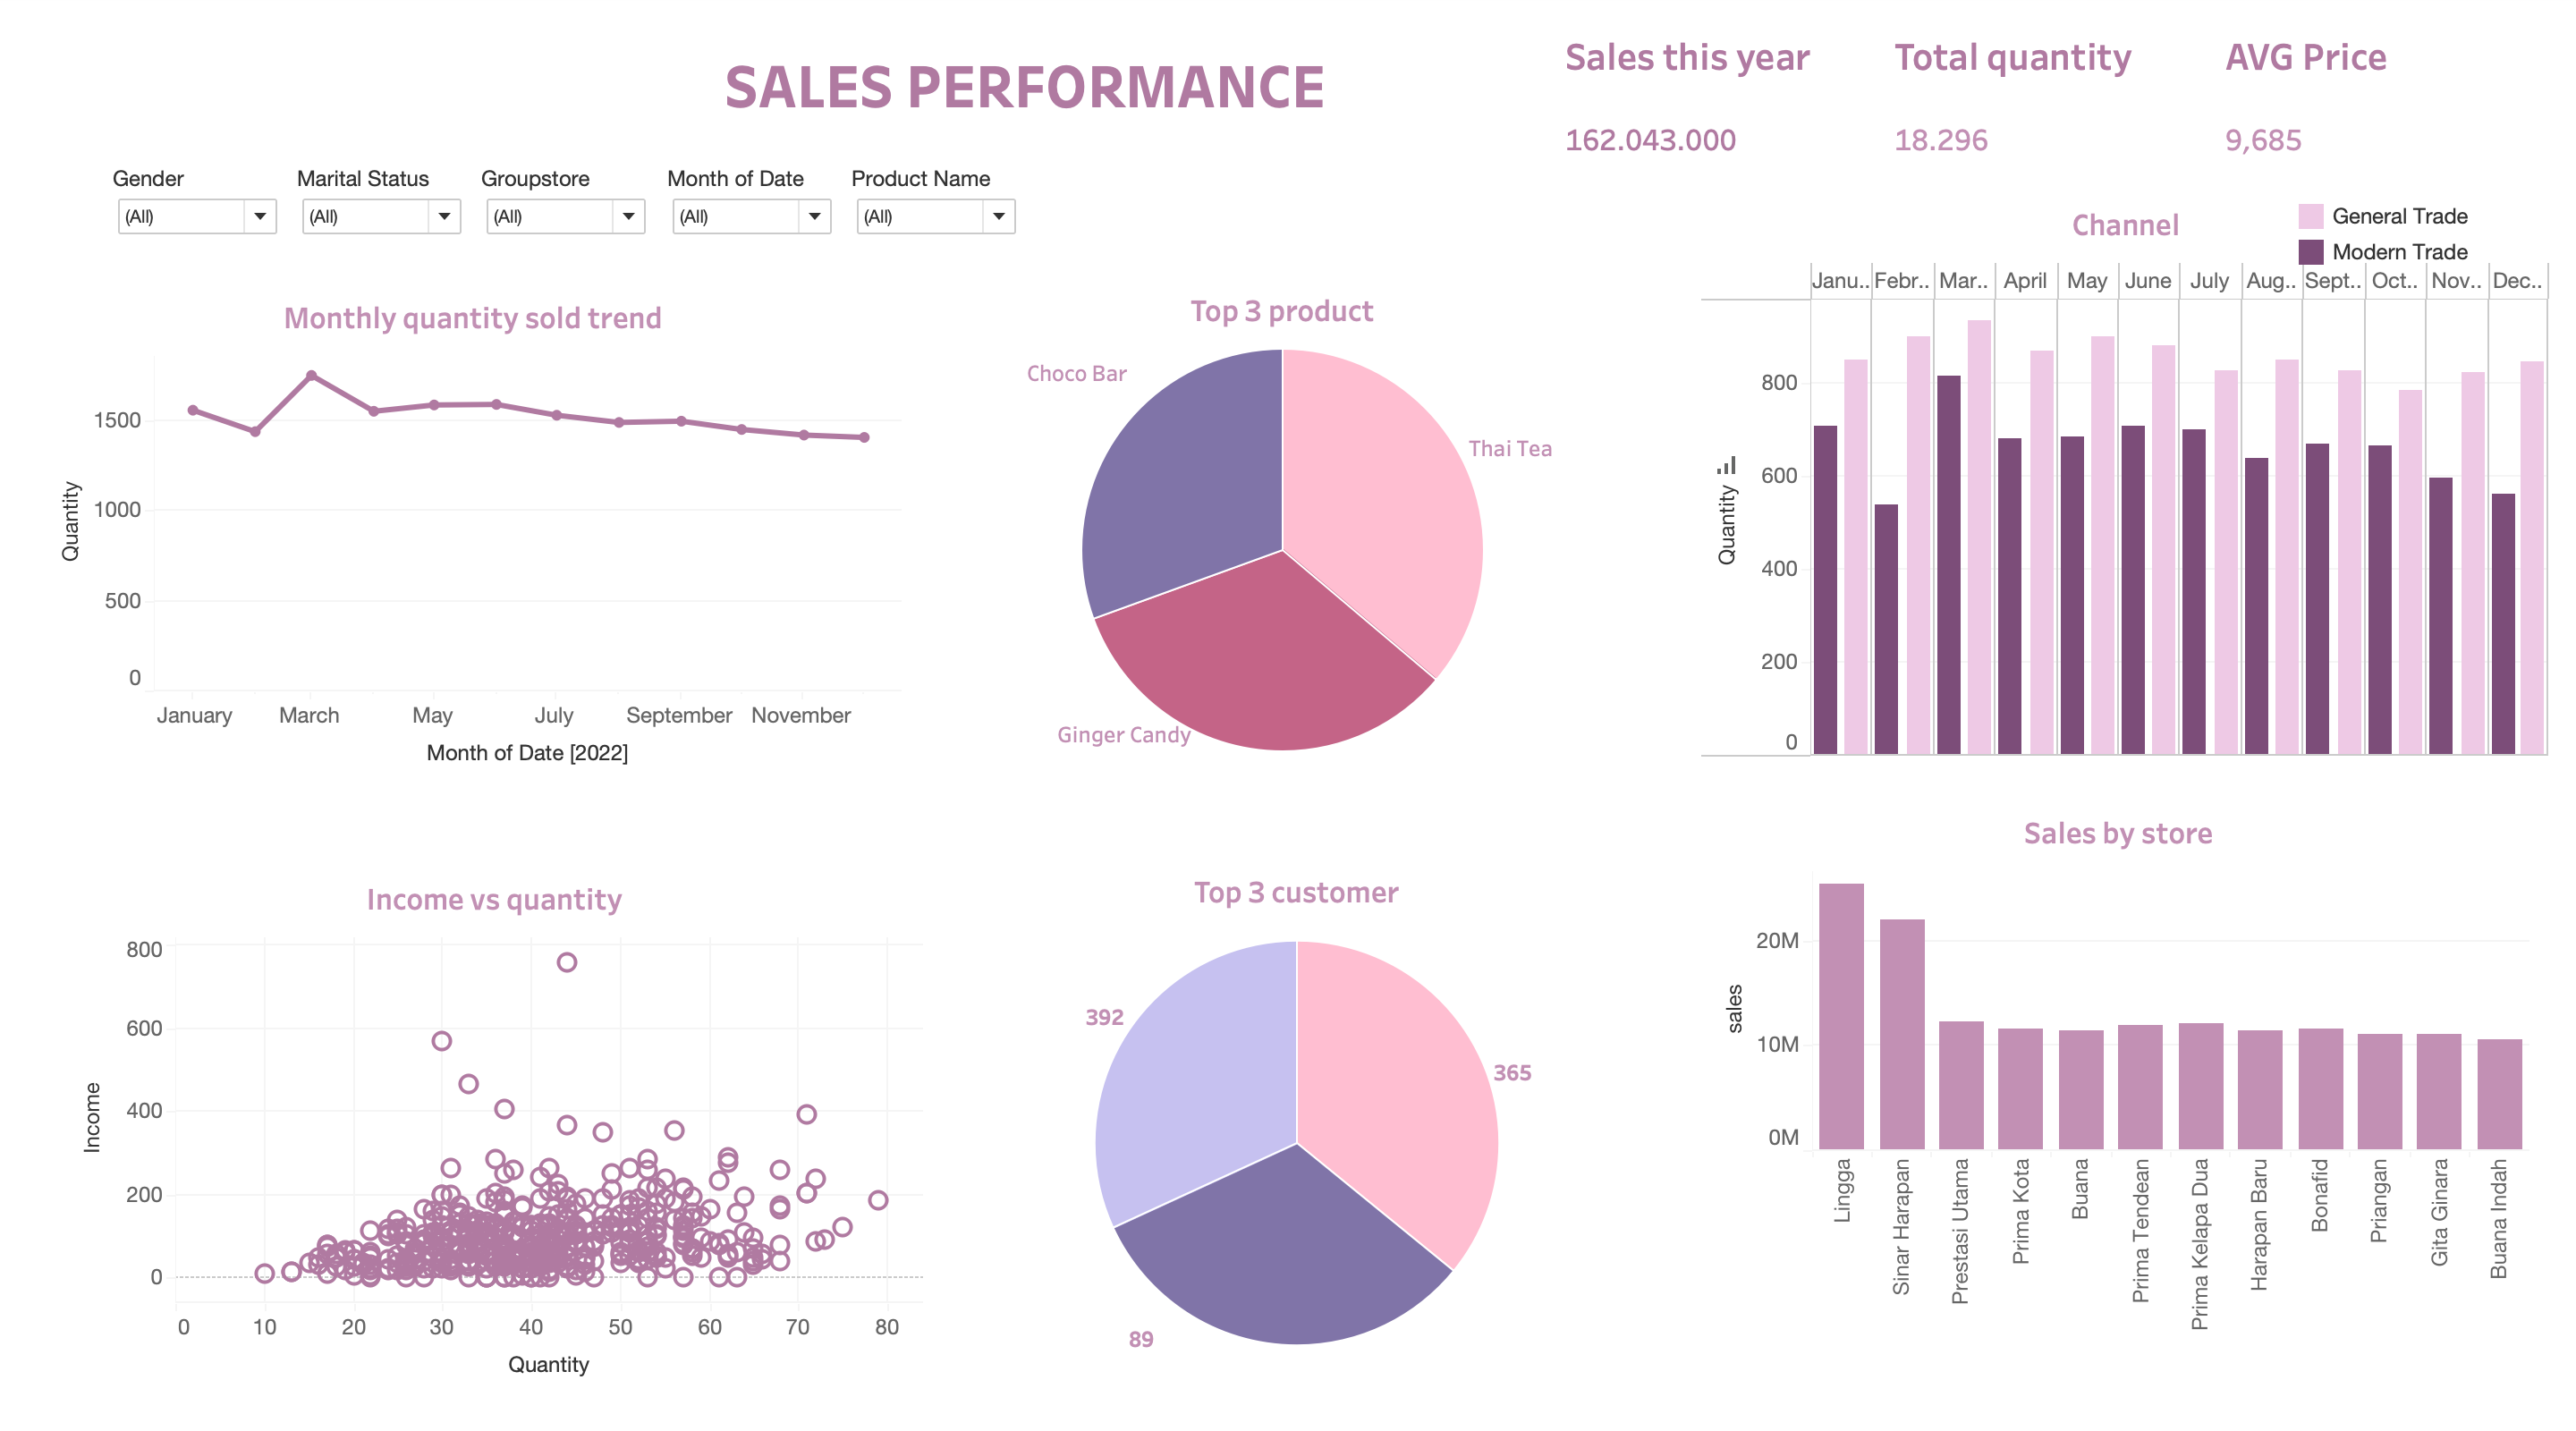

The page's visual inventory and layout, read from the dashboard file:
{"tool":"tableau","page":{"name":"Sales performance","canvas":[1000,1000],"units":"permille","ordinal":1},"visuals":[{"type":"text","box":[152.2,14.3,492.3,95.2]},{"type":"worksheet","title":"Sales this year","mark":"Automatic","box":[602.1,14.3,128,119]},{"type":"worksheet","title":"Quantity sold","mark":"Automatic","box":[730.1,14.3,128,119]},{"type":"worksheet","title":"AVG Price","mark":"Automatic","box":[858.1,14.3,128,119]},{"type":"filter","title":"Monthly sales trend","param":"[federated.1lrnjxu1mu8r5l1h5now815nalnp].[none:gender:ok]","box":[40.7,114.3,71.8,76.2]},{"type":"filter","title":"Monthly sales trend","param":"[federated.1lrnjxu1mu8r5l1h5now815nalnp].[none:marital_status:nk]","box":[112.4,114.3,71.8,76.2]},{"type":"filter","title":"Monthly sales trend","param":"[federated.1lrnjxu1mu8r5l1h5now815nalnp].[none:groupstore:nk]","box":[184.2,114.3,71.8,76.2]},{"type":"filter","title":"Monthly sales trend","param":"[federated.1lrnjxu1mu8r5l1h5now815nalnp].[mn:date:ok]","box":[256,114.3,71.8,76.2]},{"type":"filter","title":"Monthly sales trend","param":"[federated.1lrnjxu1mu8r5l1h5now815nalnp].[none:product_name:nk]","box":[327.7,114.3,71.8,76.2]},{"type":"worksheet","title":"Channel","mark":"Bar","rows":["quantity"],"cols":["date","type"],"box":[660.7,139.7,329.5,388.9]},{"type":"legend","title":"Channel","param":"[federated.1lrnjxu1mu8r5l1h5now815nalnp].[none:type:nk]","box":[890.1,141.1,104.2,82.4]},{"type":"worksheet","title":"Top 3 product","mark":"Pie","box":[391.4,200,212.4,325.4]},{"type":"worksheet","title":"Monthly sales trend","mark":"Automatic","rows":["quantity"],"cols":["date"],"box":[17.1,204.8,332.8,338.1]},{"type":"worksheet","title":"Sales by store","mark":"Automatic","rows":["Calculation_484066627494842368"],"cols":["store_name"],"box":[663.1,561.9,319,388.9]},{"type":"worksheet","title":"Top 3 customer","mark":"Pie","box":[384.9,603.2,237.6,341.3]},{"type":"worksheet","title":"income vs quantity","mark":"Automatic","rows":["income"],"cols":["quantity"],"box":[26,607.9,332.8,360.3]}]}

Visuals, with their boxes on the dashboard's canvas, which has no fixed pixel size, in thousandths of its width and height (x1, y1, x2, y2). These are canvas units, not pixel positions in the 2576x1431 screenshot, which may show the page scaled, cropped or inside an application window:
text: (152,14,644,110)
"Sales this year" worksheet: (602,14,730,133)
"Quantity sold" worksheet: (730,14,858,133)
"AVG Price" worksheet: (858,14,986,133)
"Monthly sales trend" filter: (41,114,112,190)
"Monthly sales trend" filter: (112,114,184,190)
"Monthly sales trend" filter: (184,114,256,190)
"Monthly sales trend" filter: (256,114,328,190)
"Monthly sales trend" filter: (328,114,400,190)
"Channel" worksheet (Bar marks): (661,140,990,529)
"Channel" legend: (890,141,994,224)
"Top 3 product" worksheet (Pie marks): (391,200,604,525)
"Monthly sales trend" worksheet: (17,205,350,543)
"Sales by store" worksheet: (663,562,982,951)
"Top 3 customer" worksheet (Pie marks): (385,603,622,944)
"income vs quantity" worksheet: (26,608,359,968)
